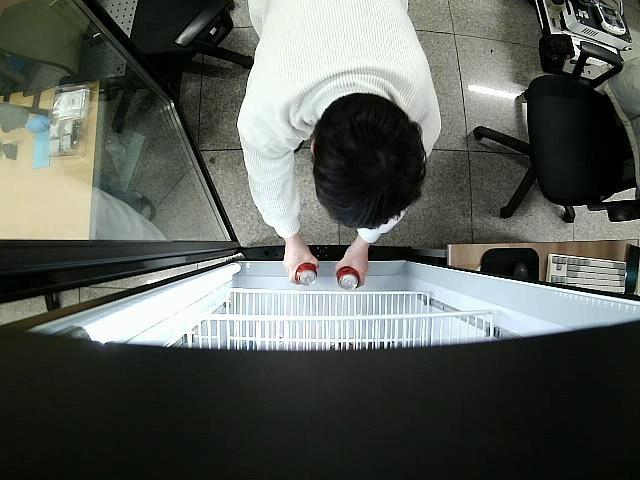11_cocaColaZero: (338, 268, 360, 290), (294, 264, 316, 284)
